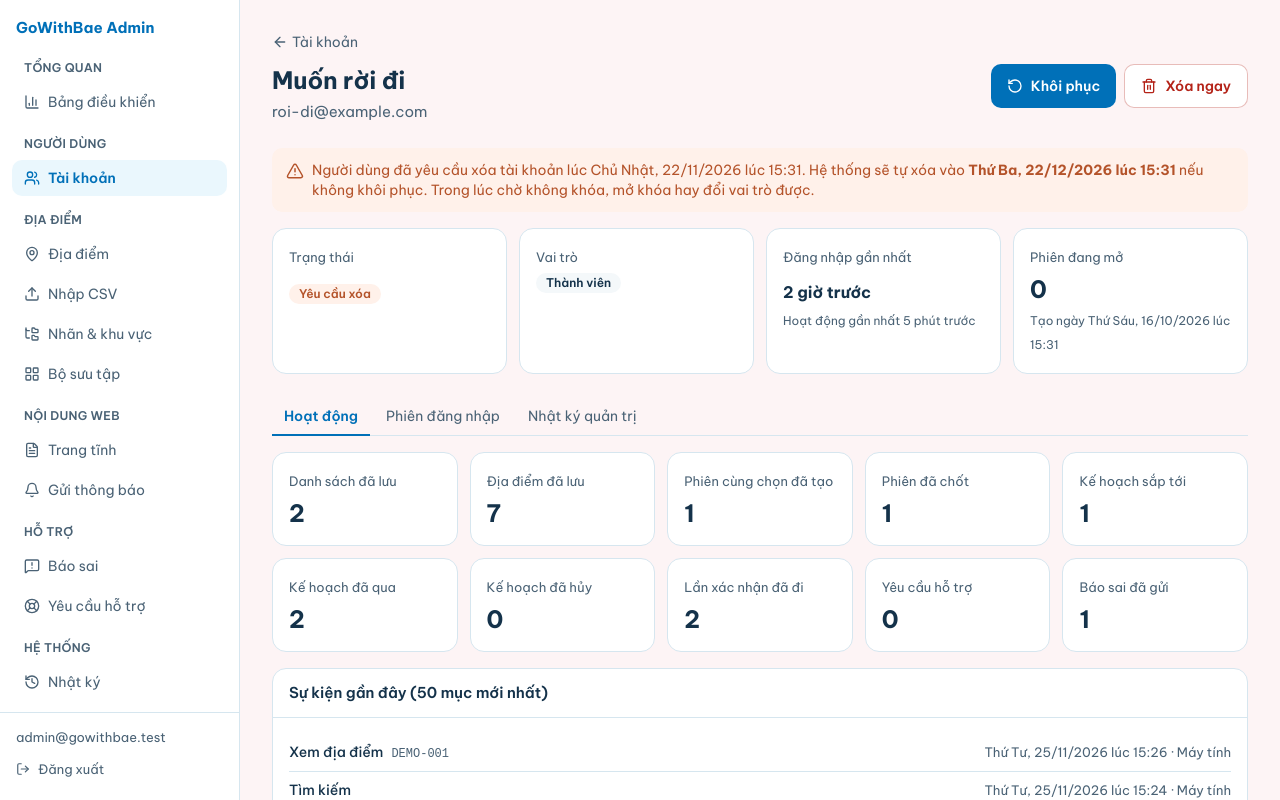
Test case: Tài khoản đang chờ xóa › xóa ngay phải gõ đúng email và có lý do
The width and height of the screenshot is (1280, 800).
Click the button "Xóa ngay" at (1186, 86), box [1124,64,1248,108]
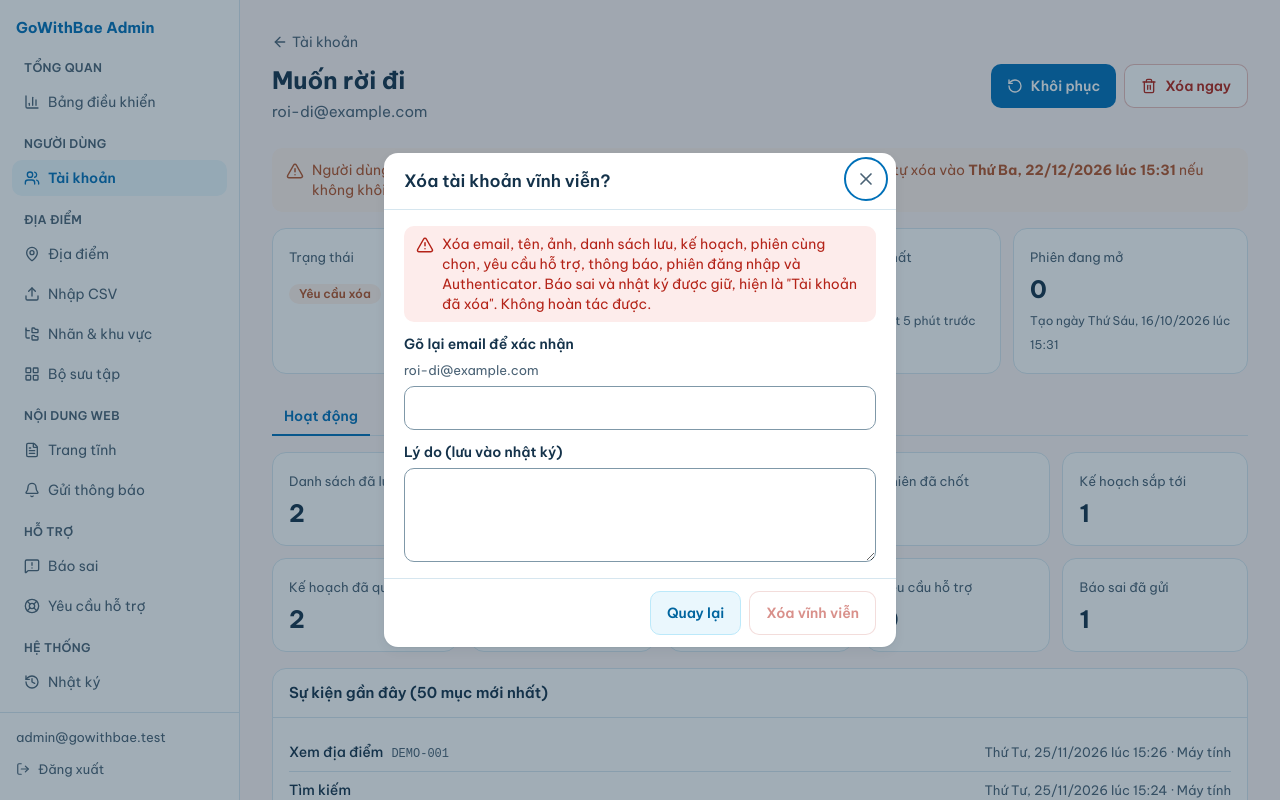
Type "Theo yêu cầu" into the text box labelled "Lý do (lưu vào nhật ký)" at (640, 515), box [404,468,876,562]
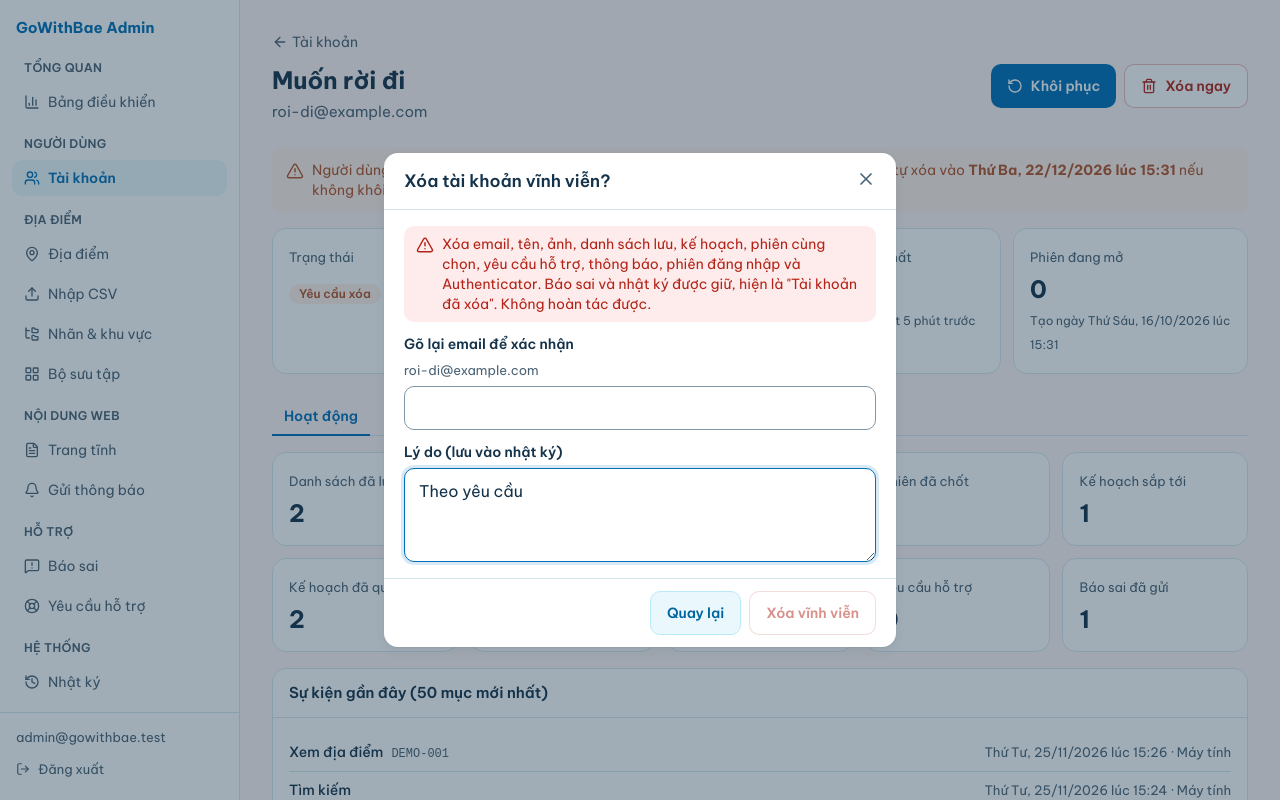
Type "sai@example.com" into the field labelled "Gõ lại email để xác nhận" at (640, 408), box [404,386,876,430]
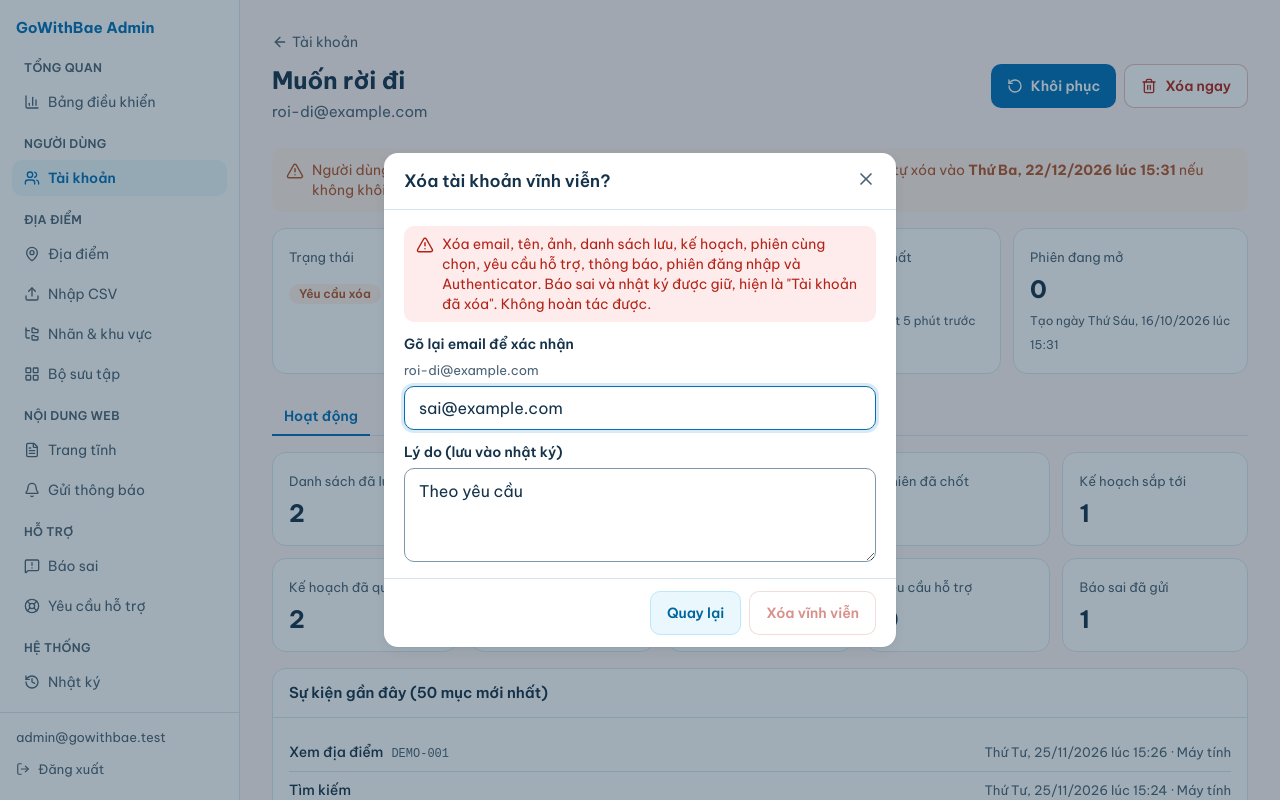
Check: the button "Xóa vĩnh viễn" is disabled, box [749,591,876,635]
Replace the text in the field labelled "Gõ lại email để xác nhận" with "ROI-DI@example.com" at (640, 408), box [404,386,876,430]
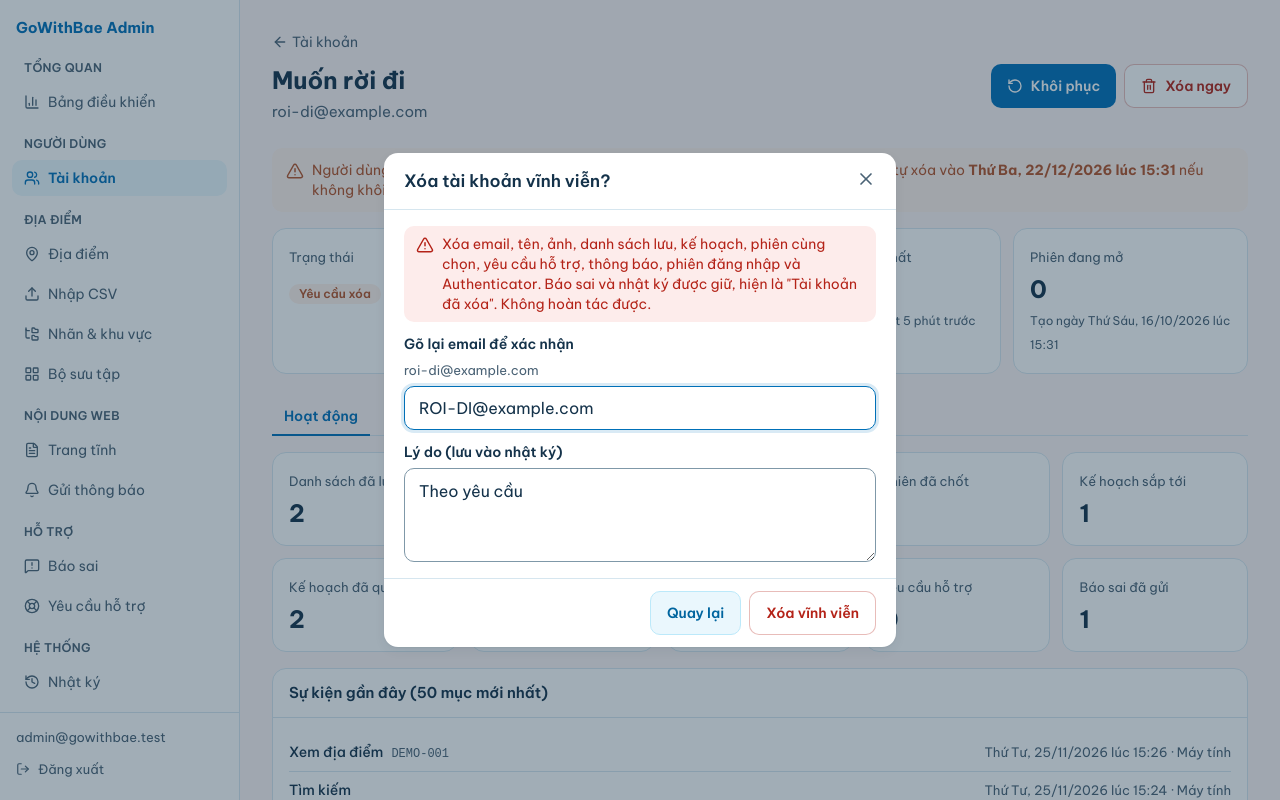
Click the button "Xóa vĩnh viễn" at (813, 613), box [749,591,876,635]
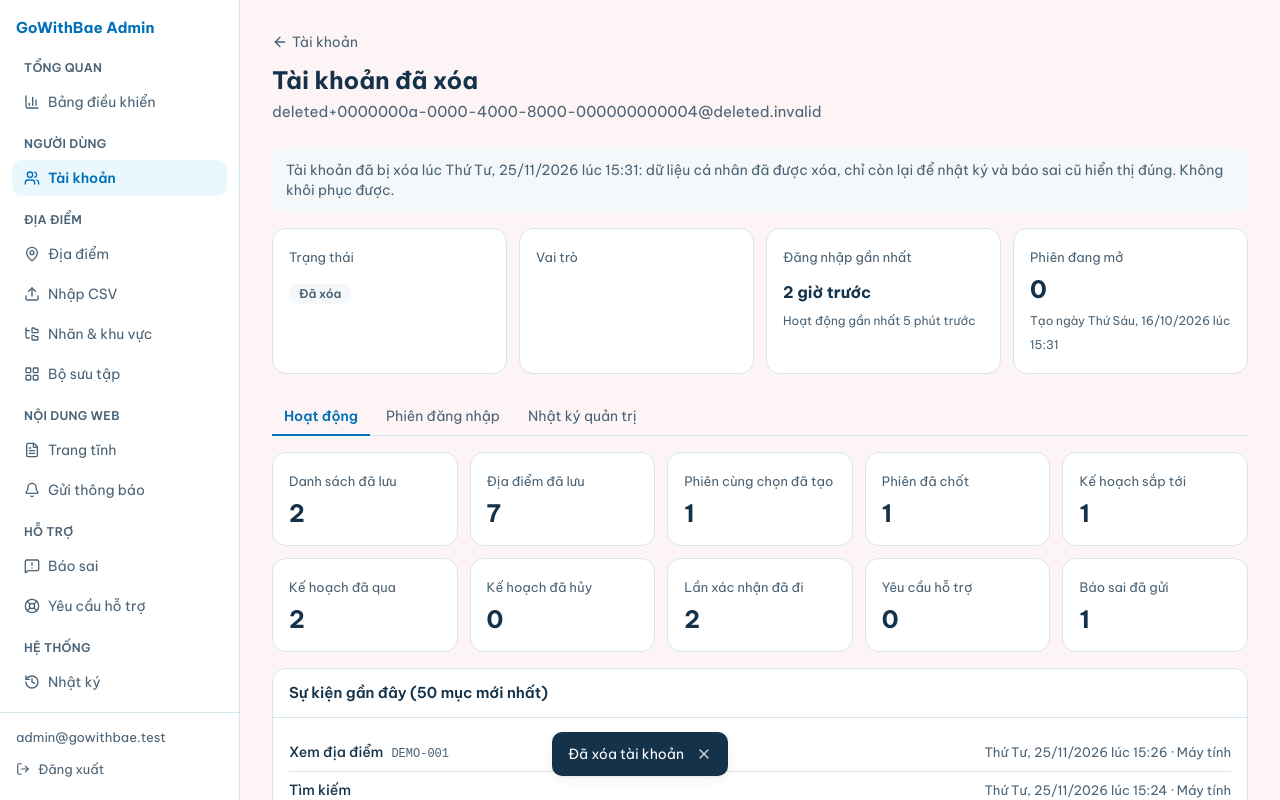
Check: the button "Khôi phục" is not shown
Check: the text "Tài khoản đã bị xóa" is shown, box [286,161,418,179]
